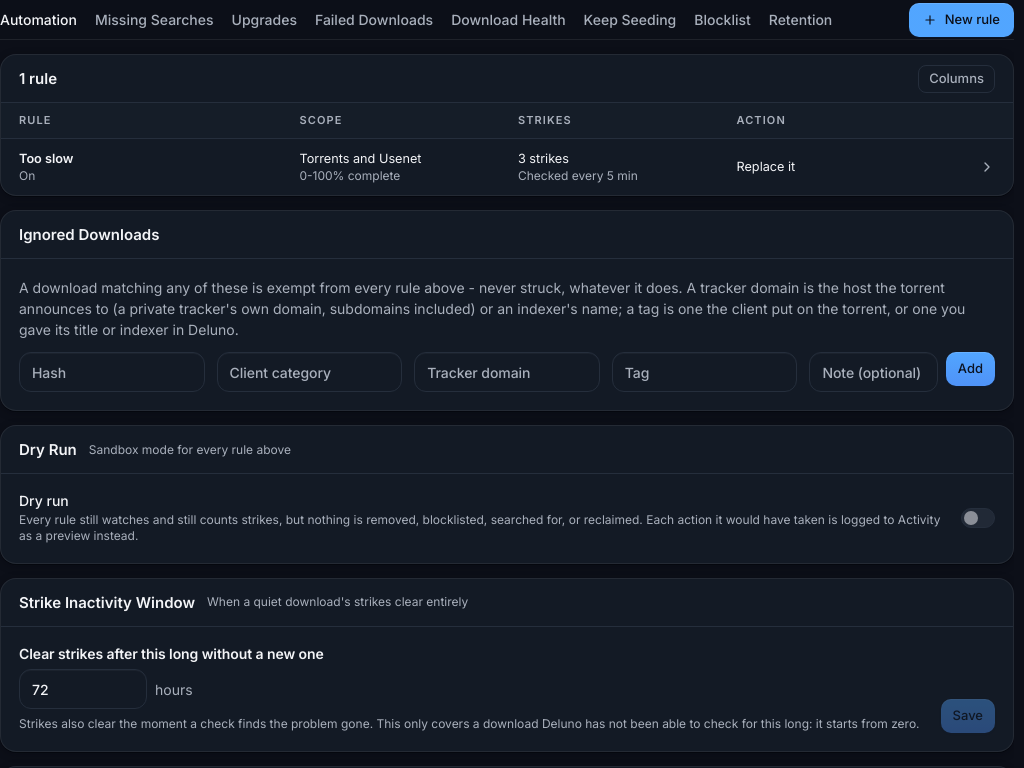
Test case: what a rule is checked against before it is sent › a speed that is not a whole number of MB/s shows in KB/s
Step 1. Click the text "Too slow" → (46, 158), box [19,151,74,166]
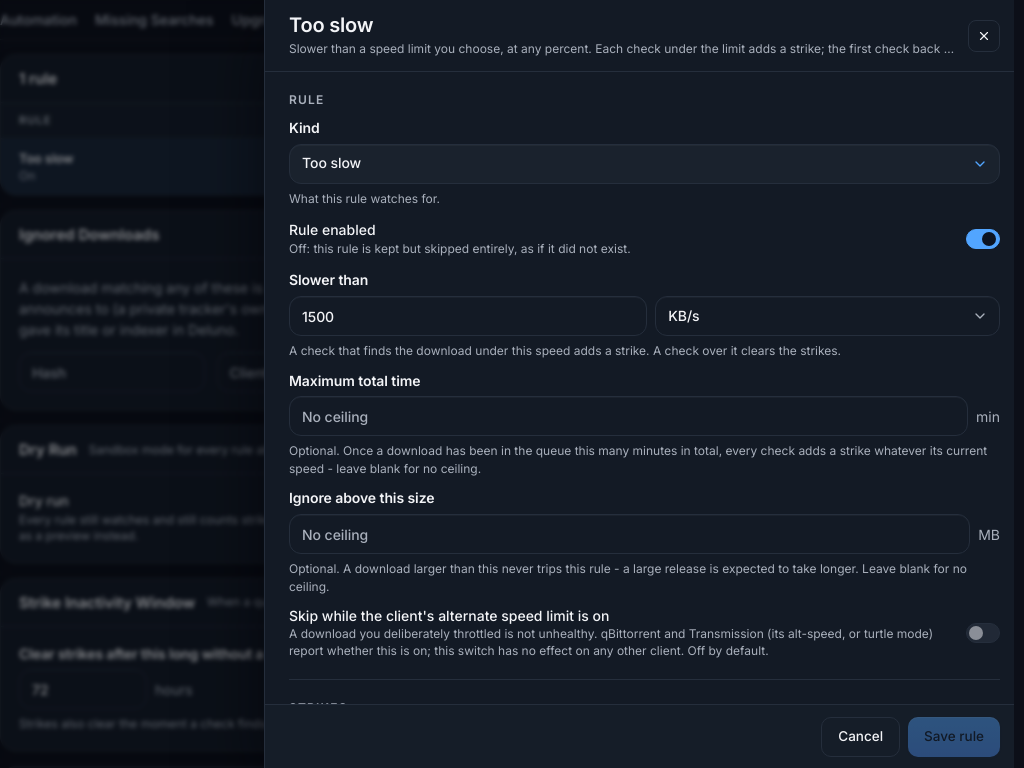
Expected: the number field labelled "Slower than" holds "1500", [289,296,647,336]
Expected: the dropdown named "Speed unit" shows "KB/s", [655,296,1000,336]
